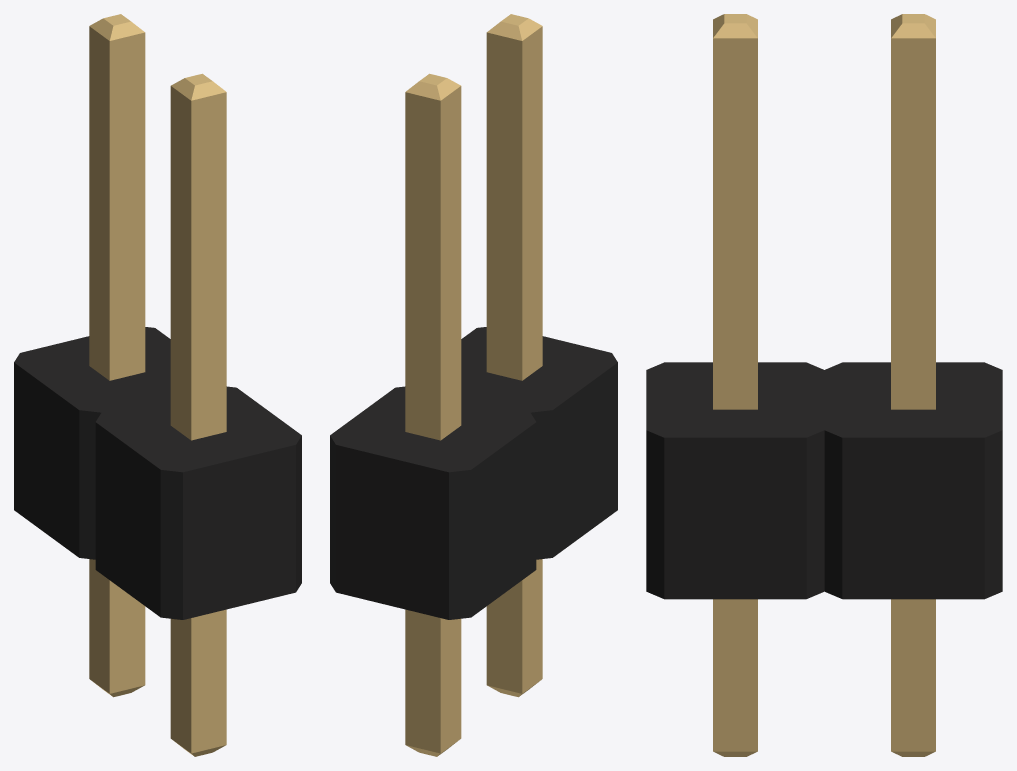
The model's file is pinheader_1x02_p2_54mm_vertical.glb.
3 views of the same model, side by side, from view 1: azimuth 30°, elevation 25°; view 2: azimuth 150°, elevation 25°; view 3: azimuth 270°, elevation 25° (orthographic). The views are drawn at different scales.
Visible parts, largest first — view 1: conn_header_1x02, pin_2, pin_1; view 2: conn_header_1x02, pin_1, pin_2; view 3: conn_header_1x02, pin_1, pin_2.
Boxes of the visible parts, box(x1,y1,x2,y2) form: conn_header_1x02: box(14, 14, 301, 619); pin_2: box(170, 609, 226, 756); pin_1: box(89, 559, 145, 697); conn_header_1x02: box(330, 14, 617, 619); pin_1: box(405, 609, 461, 756); pin_2: box(486, 559, 542, 697); conn_header_1x02: box(646, 14, 1002, 599); pin_1: box(891, 599, 935, 756); pin_2: box(713, 599, 757, 756).
Size of the model in its own units: 0.00254 by 0.0115 by 0.00508.
